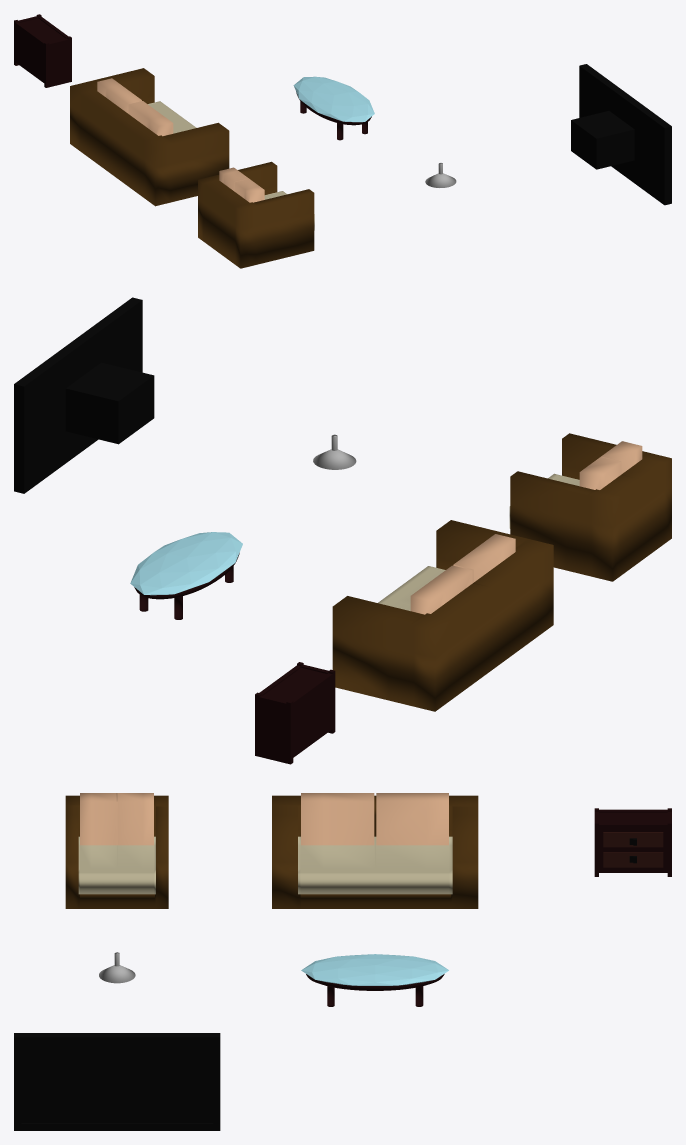
The picture shows the model from 3 angles, top to bottom: view 1: azimuth 30°, elevation 25°; view 2: azimuth 150°, elevation 25°; view 3: azimuth 270°, elevation 25°; orthographic projection. The views are drawn at different scales.
Visible parts, largest first — view 1: Cube, Cube.002, Cube.001, Cube.003, Torus, Cylinder; view 2: Cube, Cube.002, Cube.001, Cube.003, Torus, Cylinder; view 3: Cube, Cube.001, Cube.002, Cube.003, Torus, Cylinder.
Part boxes in pixels (box(x1,y1,x2,y2)): Cube: box(70, 68, 229, 206); Cube.002: box(198, 161, 314, 268); Cube.001: box(571, 64, 671, 205); Cube.003: box(14, 14, 71, 87); Torus: box(293, 76, 374, 140); Cylinder: box(425, 163, 456, 187); Cube: box(332, 520, 553, 711); Cube.002: box(509, 433, 671, 581); Cube.001: box(14, 297, 154, 493); Cube.003: box(255, 662, 335, 764); Torus: box(130, 532, 242, 619); Cylinder: box(313, 434, 356, 469); Cube: box(272, 793, 478, 908); Cube.001: box(14, 1033, 220, 1130); Cube.002: box(65, 793, 168, 908); Cube.003: box(594, 808, 671, 876); Torus: box(301, 954, 448, 1006); Cylinder: box(99, 952, 135, 983).
Size of the model in its own units: 1110 by 224 by 1275.
